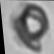correct: (12, 2, 53, 50)
